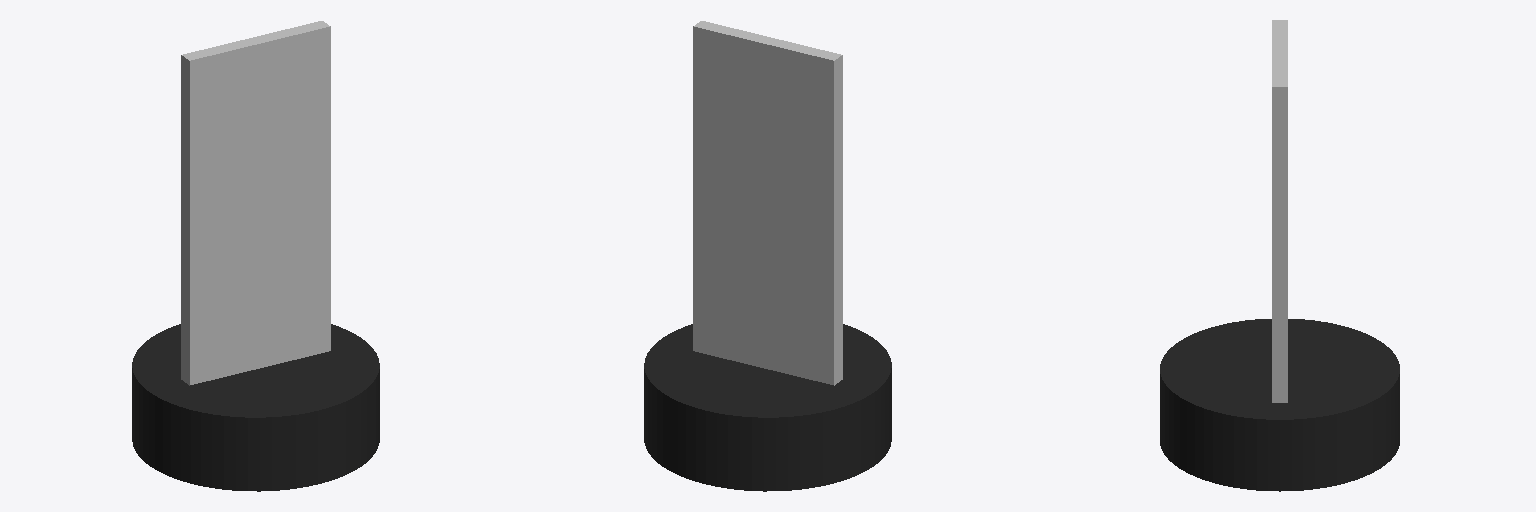
robot.urdf — spatula-base.urdf:
<?xml version="0.0" ?>
<robot name="spatula-base.urdf">
  <material name="DarkGrey">
    <color rgba="0.2 0.2 0.2 1.0"/>
  </material>
  <material name="LightGrey">
    <color rgba="0.8 0.8 0.8 1.0"/>
  </material>

  <link name="baseLink">
    <contact>
      <lateral_friction value="1.0"/>
      <rolling_friction value="0.0001"/>
      <inertia_scaling value="3.0"/>
    </contact>
    <inertial>
      <origin rpy="0 0 0" xyz="0 0 0"/>
       <mass value=".1"/>
       <inertia ixx="1" ixy="0" ixz="0" iyy="1" iyz="0" izz="1"/>
    </inertial>
    <visual>
      <origin rpy="0 0 0" xyz="0 0 0"/>
      <geometry>
        <mesh filename="suction/base.obj" scale="0.001 0.001 0.001"/>
      </geometry>
      <material name="DarkGrey"/>
    </visual>
    <visual>
      <origin rpy="0 0 0" xyz="0 0 0.075"/>
      <geometry>
        <box size="0.05 0.005 0.11"/>
      </geometry>
      <material name="LightGrey"/>
    </visual>
    <collision>
      <origin rpy="0 0 0" xyz="0 0 0.075"/>
      <geometry>
        <box size="0.05 0.005 0.11"/>
      </geometry>
    </collision>
  </link>

  <link name="midLink">
    <contact>
      <lateral_friction value="1.0"/>
      <rolling_friction value="0.0001"/>
      <inertia_scaling value="3.0"/>
    </contact>
    <inertial>
      <origin rpy="0 0 0" xyz="0 0 0"/>
       <mass value=".1"/>
       <inertia ixx="1" ixy="0" ixz="0" iyy="1" iyz="0" izz="1"/>
    </inertial>
    <visual>
      <origin rpy="0 0 0" xyz="0 0 0.1075"/>
      <geometry>
        <box size="0.05 0.005 0.005"/>
      </geometry>
      <material name="LightGrey"/>
    </visual>
    <collision>
      <origin rpy="0 0 0" xyz="0 0 0.1075"/>
      <geometry>
        <box size="0.05 0.005 0.005"/>
      </geometry>
    </collision>
  </link>
  <joint name="baseLink-midLink" type="fixed">
    <origin rpy="0 0 0" xyz="0 0 0.025"/>
    <parent link="baseLink"/>
    <child link="midLink"/>
  </joint>


</robot>


--- Facts derived from the render (not from the file) ---
The picture shows the robot from 3 angles, left to right: view 1: azimuth 30°, elevation 25°; view 2: azimuth 150°, elevation 25°; view 3: azimuth 270°, elevation 25°; orthographic projection.
Model spatula-base.urdf with 2 links and 1 joints (1 fixed), rooted at baseLink, posed all joints at 0.
Visible links, largest first — view 1: baseLink, midLink; view 2: baseLink, midLink; view 3: baseLink, midLink.
Link boxes in pixels (x1,y1,x2,y2): baseLink: [132, 41, 379, 491]; midLink: [181, 21, 330, 75]; baseLink: [644, 41, 891, 491]; midLink: [693, 21, 842, 75]; baseLink: [1160, 102, 1399, 491]; midLink: [1272, 20, 1287, 101].
Size in the robot's own frame: 0.076 by 0.076 by 0.135 metres.
1 mesh visuals loaded from 1 distinct referenced files (1 OBJ).